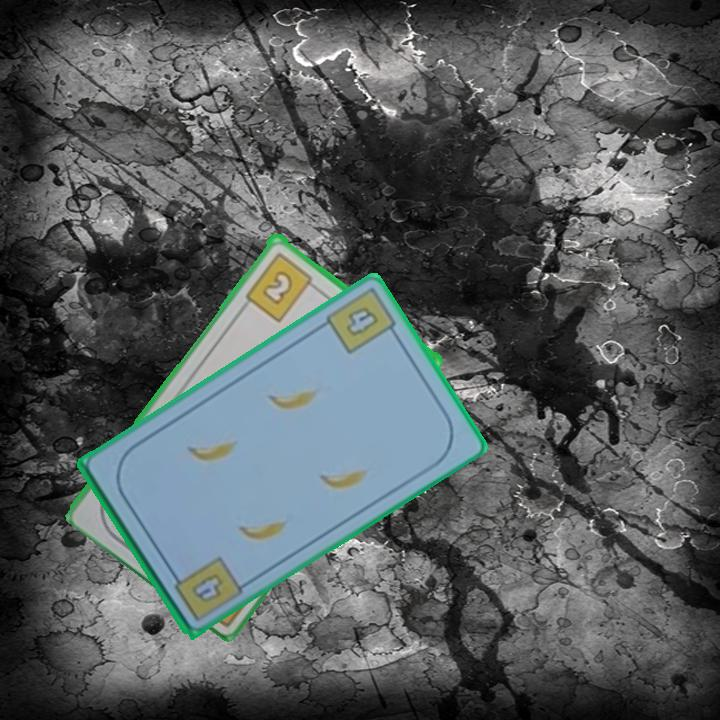2b: (241, 248, 322, 324)
4b: (322, 287, 402, 357), (187, 569, 227, 606)
